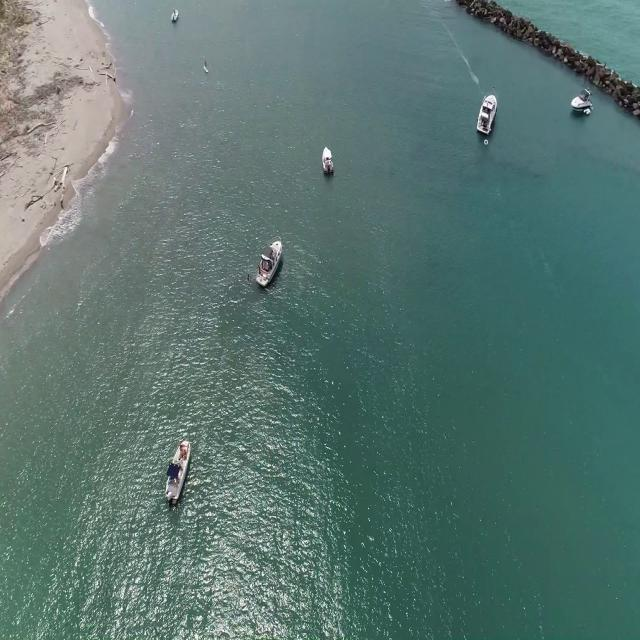boat: (165, 441, 192, 512), (256, 238, 283, 290), (472, 90, 496, 136), (572, 85, 594, 118), (320, 144, 338, 178), (169, 11, 179, 29)
life_buoy: (484, 138, 492, 149)
person: (202, 61, 208, 74)
surfboard: (202, 69, 210, 80)
